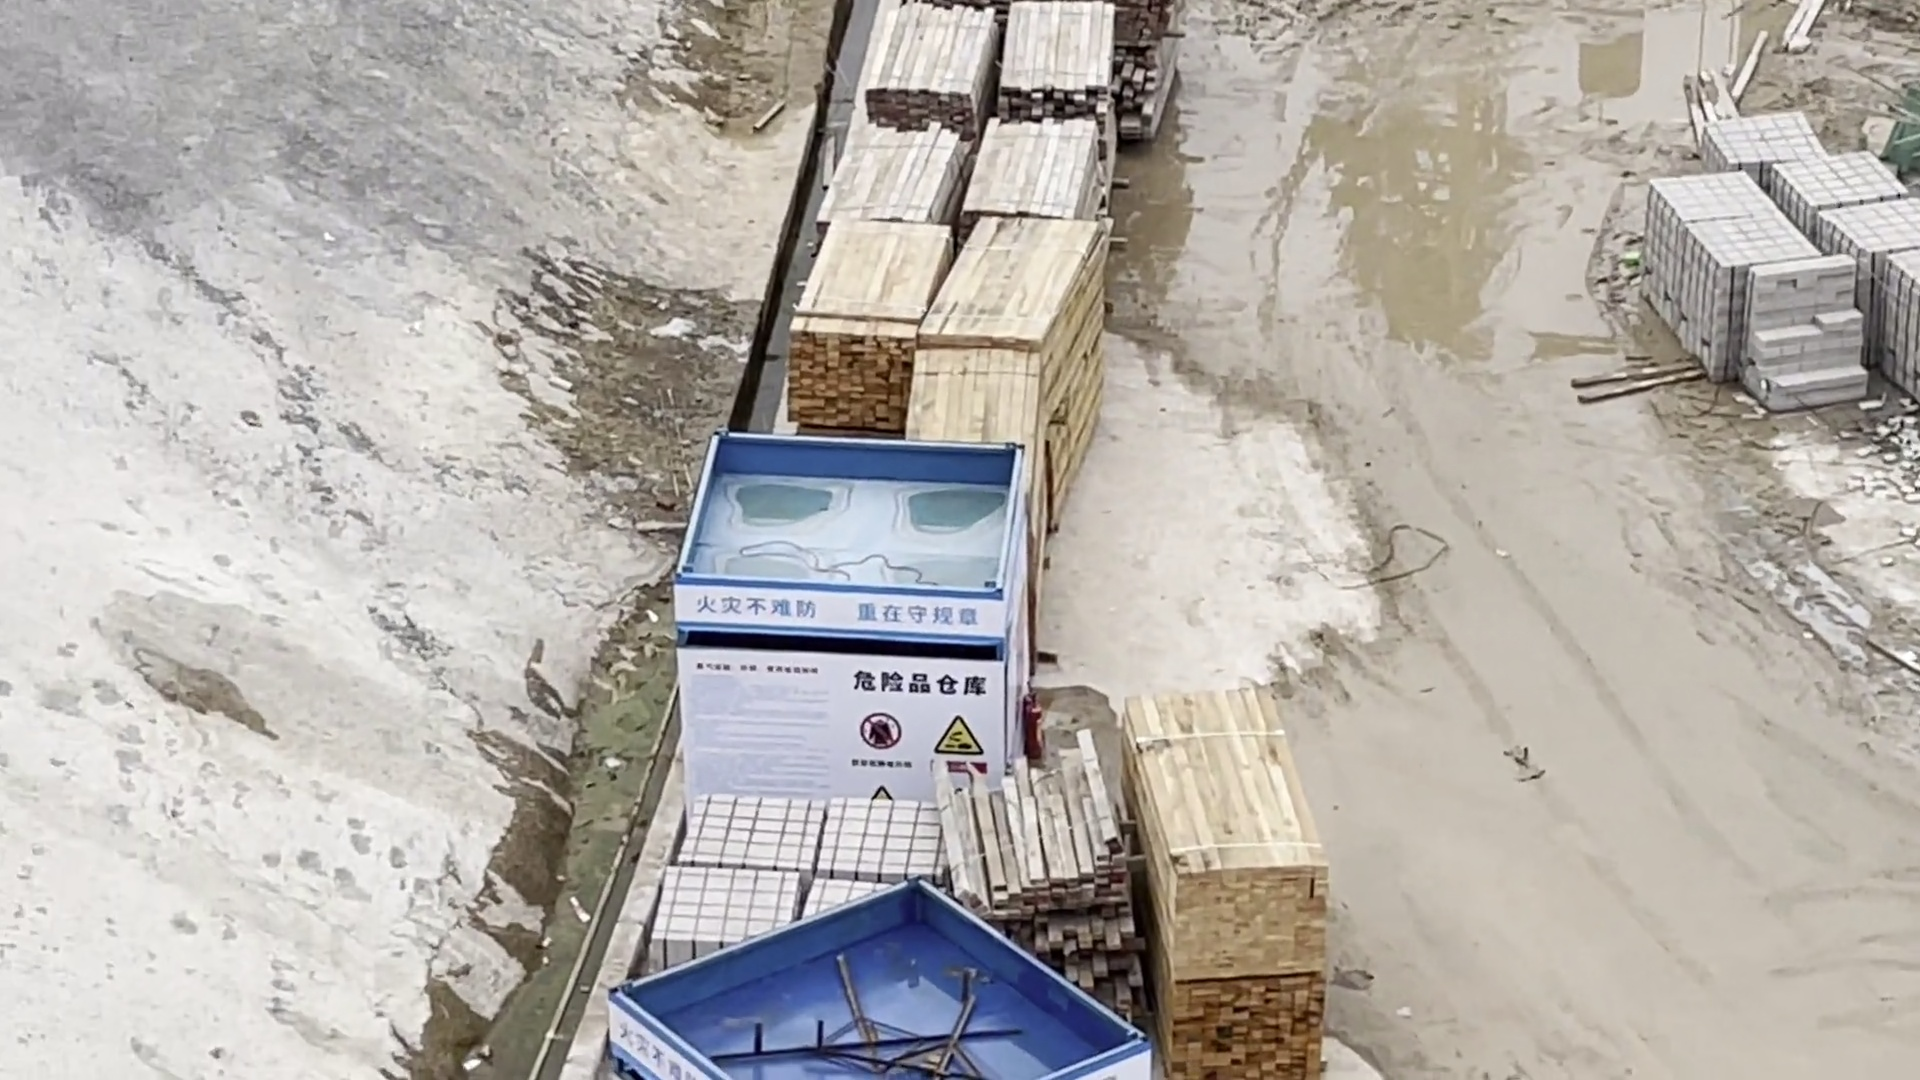slogan: (650, 402, 1069, 815)
wood: (1138, 707, 1346, 986), (944, 216, 1127, 517), (918, 760, 1141, 965), (787, 222, 928, 444), (1737, 251, 1896, 436), (910, 344, 1050, 522), (1153, 971, 1316, 1080), (858, 7, 985, 138), (1004, 3, 1130, 131), (967, 120, 1106, 228), (824, 128, 957, 233)
